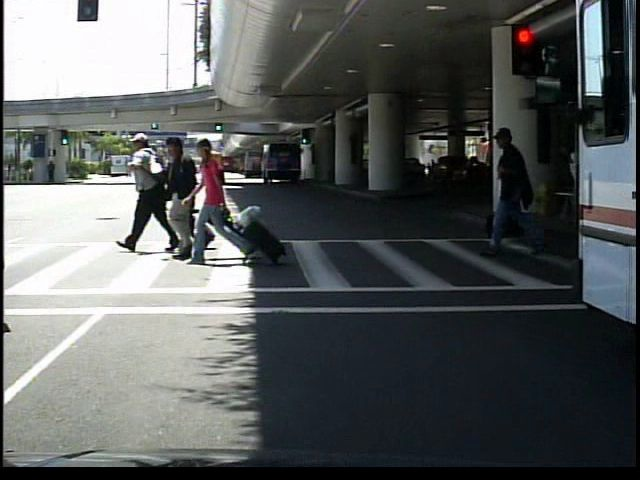person: (480, 118, 551, 259)
